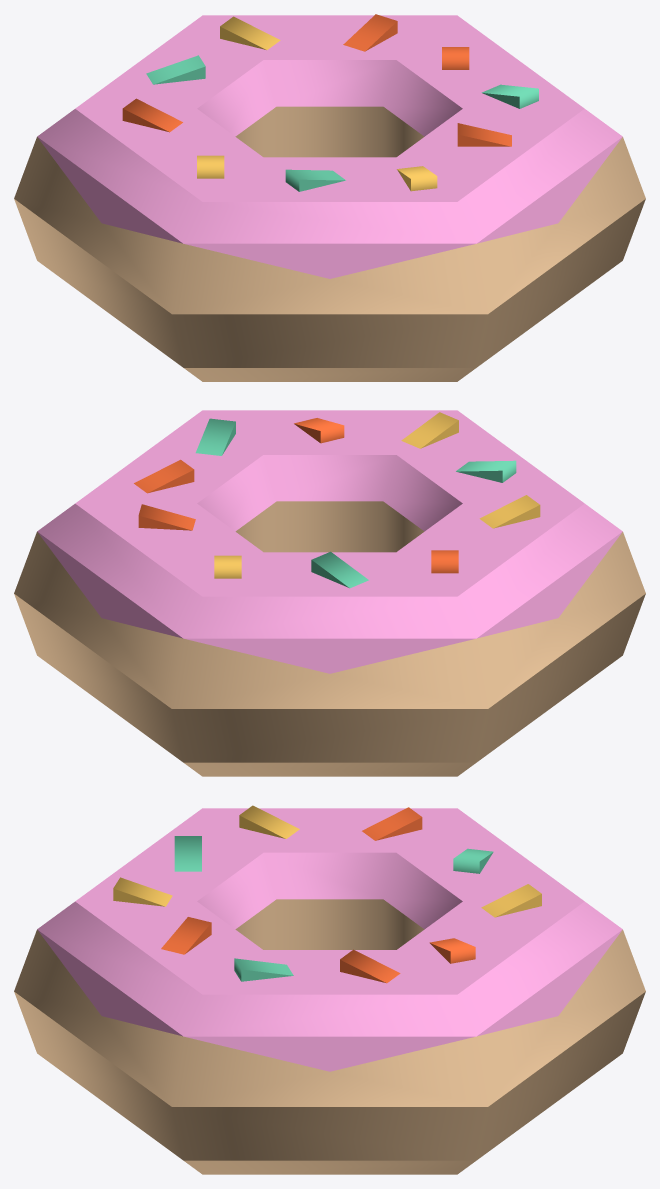
The model's file is Donut Sprinkles.glb.
3 renders of one model, top to bottom at view 1: azimuth 30°, elevation 25°; view 2: azimuth 150°, elevation 25°; view 3: azimuth 270°, elevation 25°, orthographic.
Parts seen in each view (by area): view 1: donutSprinkles; view 2: donutSprinkles; view 3: donutSprinkles.
Part boxes in pixels (x1,y1,x2,y2): donutSprinkles: [14, 14, 645, 381]; donutSprinkles: [14, 410, 645, 776]; donutSprinkles: [14, 805, 645, 1174].
Bounding box in the file's own units: 0.2451 × 0.095 × 0.283.
